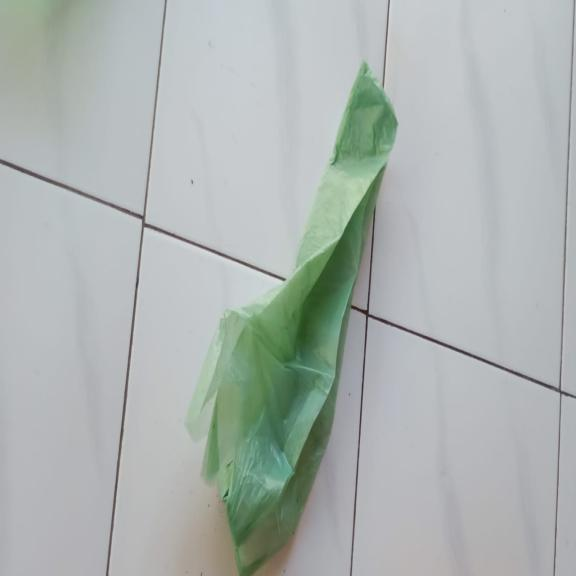Plastik: (184, 60, 398, 576)
